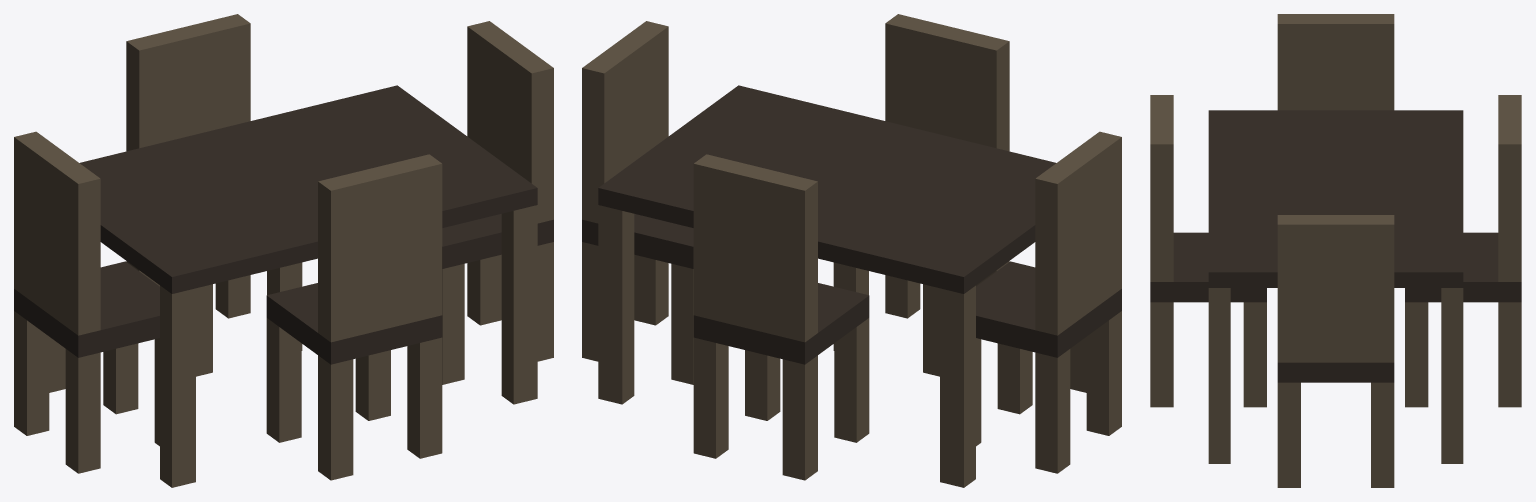
The model's file is OrganizedTable.fbx.
3 views of the same model, side by side, from view 1: azimuth 30°, elevation 25°; view 2: azimuth 150°, elevation 25°; view 3: azimuth 270°, elevation 25° (orthographic). The views are drawn at different scales.
Visible parts, largest first — view 1: OrganizedTable1; view 2: OrganizedTable1; view 3: OrganizedTable1.
Boxes of the visible parts, x1=… form: OrganizedTable1: x1=14, y1=14, x2=553, y2=487; OrganizedTable1: x1=582, y1=14, x2=1121, y2=487; OrganizedTable1: x1=1150, y1=14, x2=1521, y2=487.
Size of the model in its own units: 1.57 by 0.9124 by 1.17.
